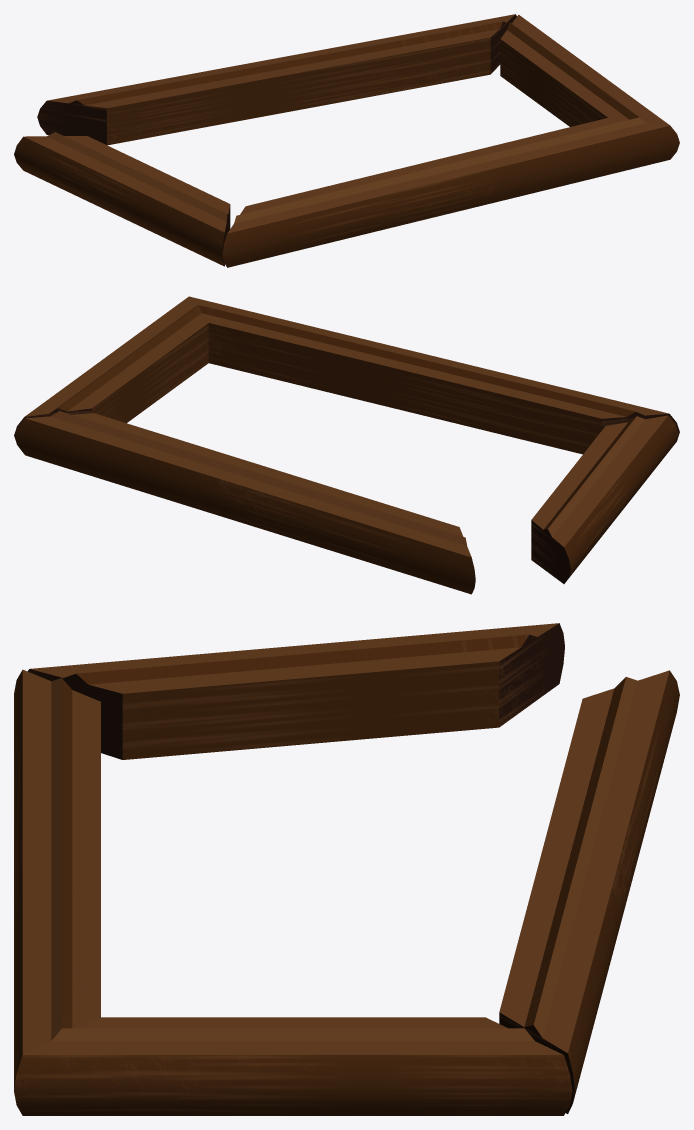
3 views of the same model, one above another, from view 1: azimuth 30°, elevation 25°; view 2: azimuth 150°, elevation 25°; view 3: azimuth 270°, elevation 25° (orthographic). The views are drawn at different scales.
Parts seen in each view (by area): view 1: 큰 액자; view 2: 큰 액자; view 3: 큰 액자.
Boxes of the visible parts, x1,y1,x2,y2 form: 큰 액자: (14, 14, 679, 267); 큰 액자: (14, 296, 679, 594); 큰 액자: (14, 623, 679, 1115).
Size of the model in its own units: 1057 by 80.41 by 669.
Materials: 1 (1 with a texture image).
